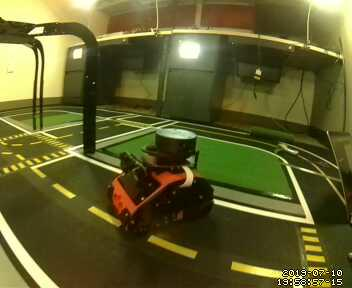pheeno: (106, 125, 219, 245)
